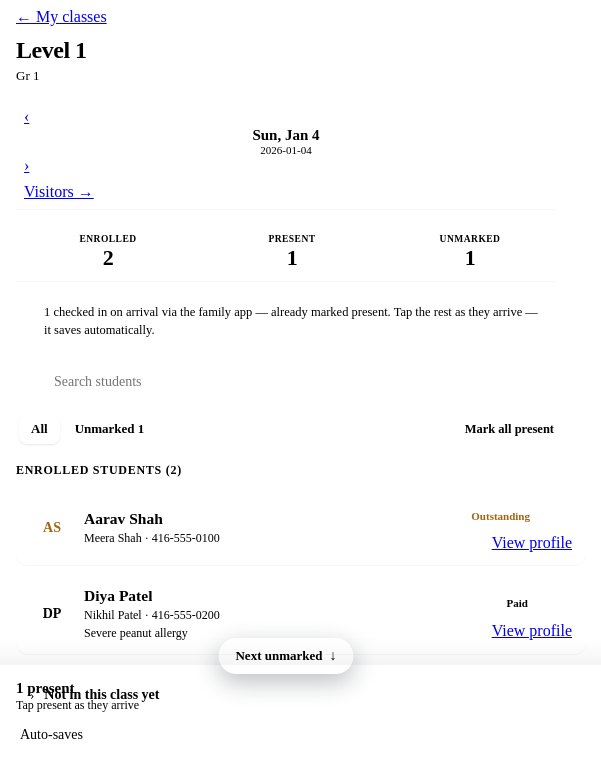
Test: stat strip shows Enrolled and a live Present count (no Arrived)
Expected: the text "2" is shown, [103,247,113,269]
Expected: the 1st text "1" is shown, [287,247,297,269]
Click the button "AS Aarav Shah Meera Shah · 416-555-0100" at [105, 518], box [32,508,451,548]
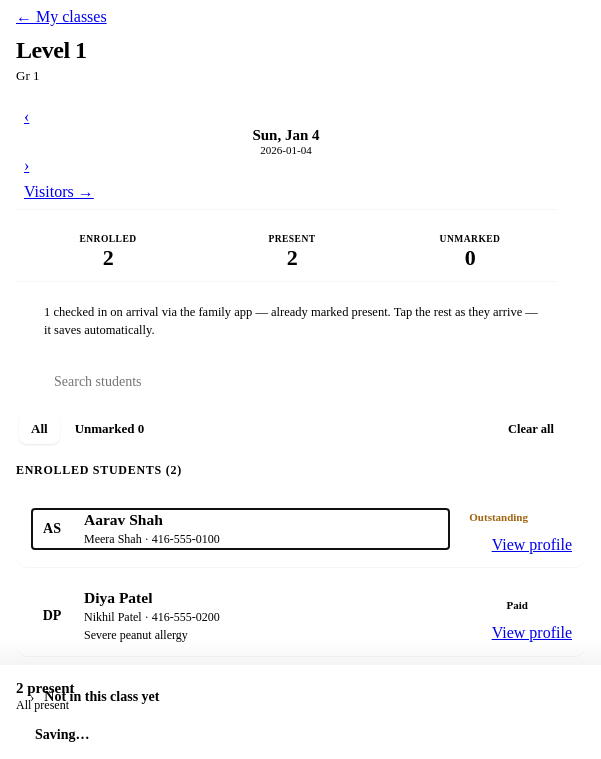
Now the 2nd text "2" is shown, box [287,247,297,269]
